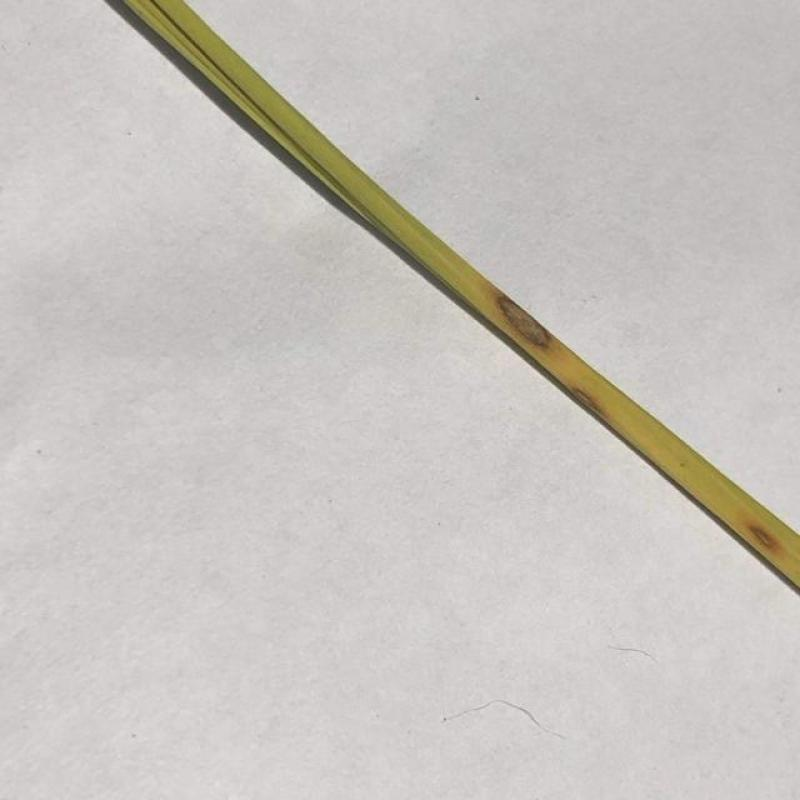Leaf_Blast: (489, 291, 575, 364), (561, 374, 620, 436), (737, 510, 800, 560)
